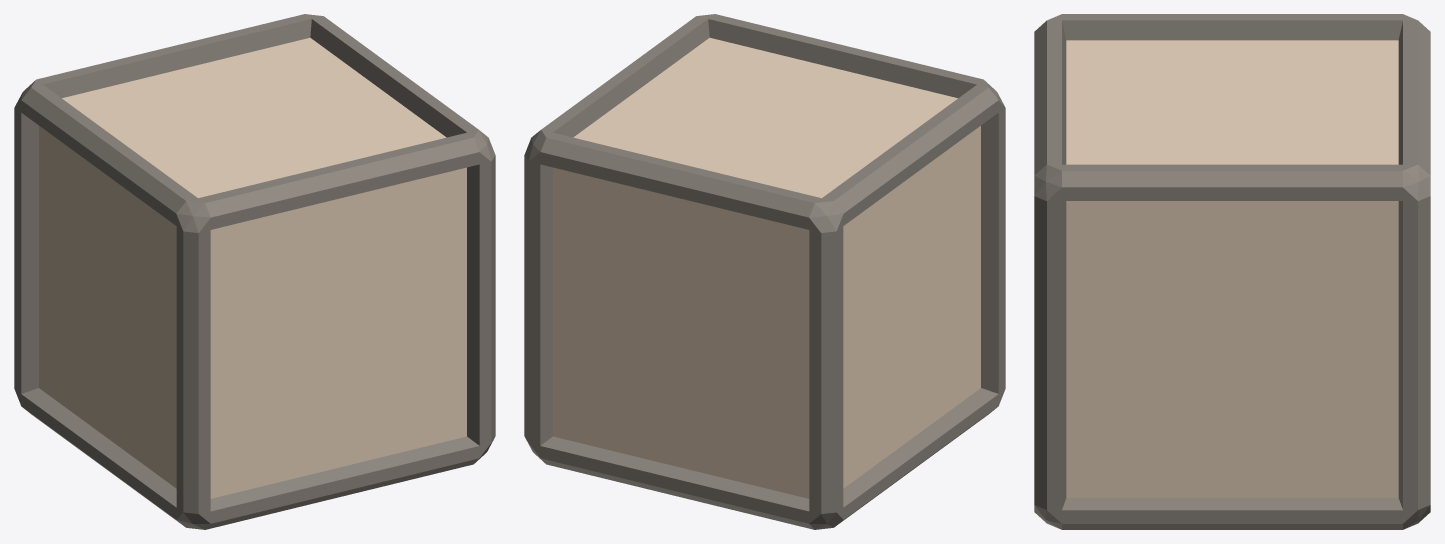
The picture shows the model from 3 angles, left to right: view 1: azimuth 30°, elevation 25°; view 2: azimuth 150°, elevation 25°; view 3: azimuth 270°, elevation 25°; orthographic projection. The views are drawn at different scales.
Parts seen in each view (by area): view 1: Cube, Cube.002; view 2: Cube, Cube.002; view 3: Cube, Cube.002.
Part boxes in pixels (<box>): Cube: <box>39,37,466,498</box>; Cube.002: <box>14,14,495,529</box>; Cube: <box>553,37,980,498</box>; Cube.002: <box>524,14,1005,529</box>; Cube: <box>1066,40,1398,497</box>; Cube.002: <box>1034,14,1430,529</box>.
Bounding box in the file's own units: 200 × 200 × 200.
